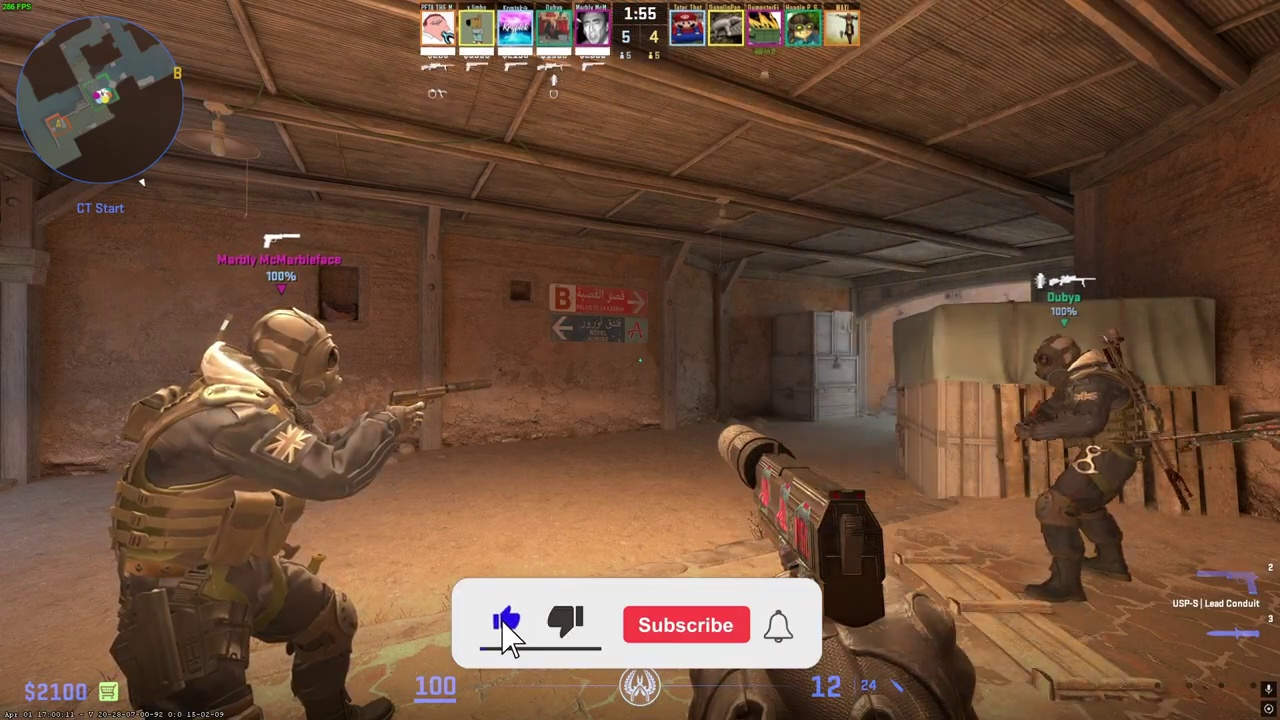CT: (120, 308, 364, 720), (1023, 334, 1151, 601)
